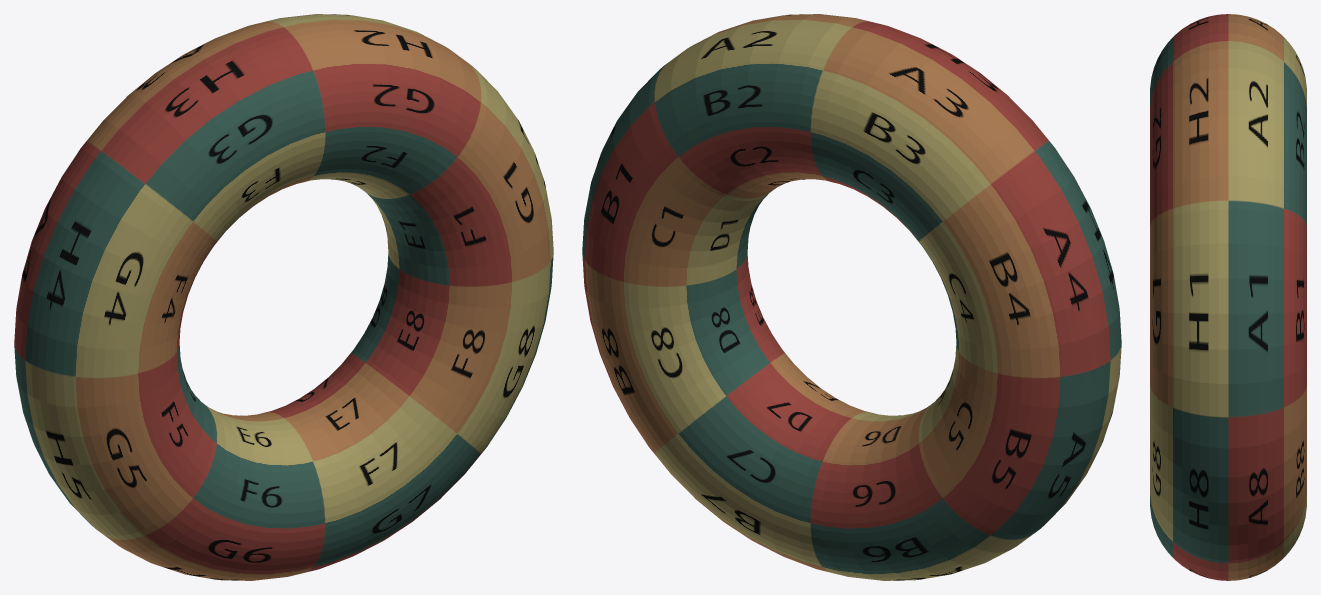
Rendered from texture_torus_R20_r26.glb.
3 views of the same model, side by side, from view 1: azimuth 30°, elevation 25°; view 2: azimuth 150°, elevation 25°; view 3: azimuth 270°, elevation 25° (orthographic). The views are drawn at different scales.
Visible parts, largest first — view 1: world; view 2: world; view 3: world.
Part boxes in pixels (x1,y1,x2,y2): world: (14,14,553,580); world: (582,14,1121,580); world: (1150,14,1306,580).
Bounding box in the file's own units: 32.27 × 32.2 × 8.92.
Materials: 1 (1 with a texture image).
